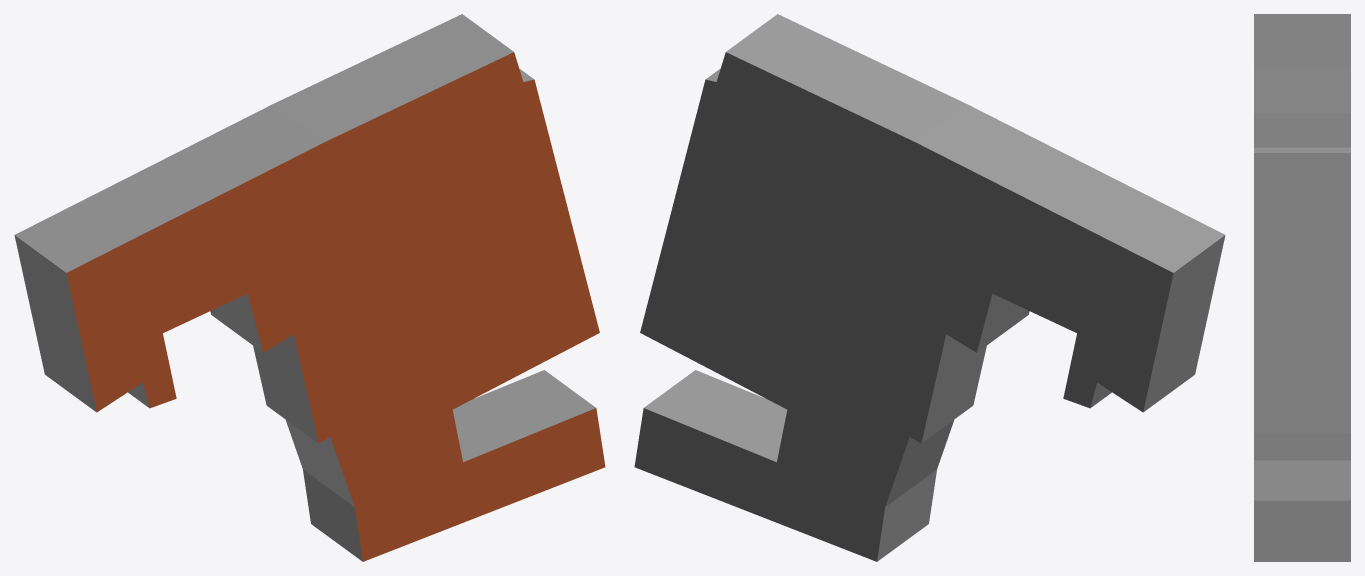
Rendered from construction_2557_assumed_A_Casa_h6m.obj.
3 renders of one model, left to right at view 1: azimuth 30°, elevation 25°; view 2: azimuth 150°, elevation 25°; view 3: azimuth 270°, elevation 25°, orthographic. The views are drawn at different scales.
Visible parts, largest first — view 1: construction_2557_assumed_A_Casa; view 2: construction_2557_assumed_A_Casa; view 3: construction_2557_assumed_A_Casa.
Boxes of the visible parts, x1,y1,x2,y2 form: construction_2557_assumed_A_Casa: [14, 14, 605, 561]; construction_2557_assumed_A_Casa: [634, 14, 1225, 561]; construction_2557_assumed_A_Casa: [1254, 14, 1350, 561].
Size of the model in its own units: 35.95 by 30.15 by 6.
